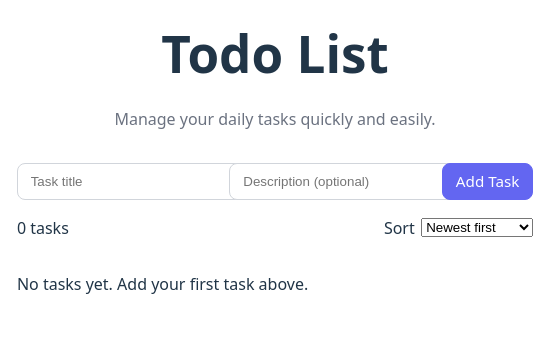
Test: M2: Edit Task - modify title and description
Note: Add initial task
In the field with placeholder "Task title": (133, 182) [17,163,249,200], type "Walk dog"
In the field with placeholder "Description (optional)": (346, 182) [230,163,462,200], type "Evening walk"
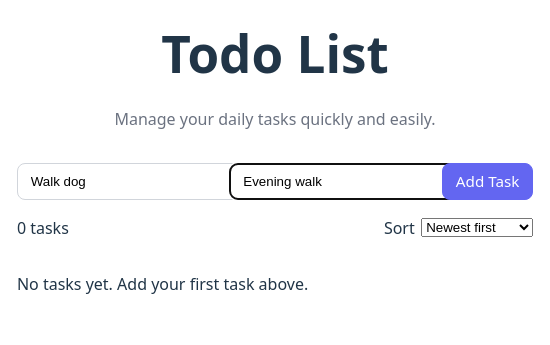
Click the button "Add Task": (488, 182) [442,163,533,200]
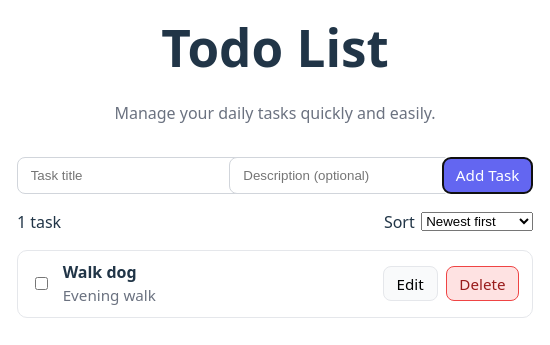
Click the button with aria-label "edit task": (410, 284) [383,266,438,301]
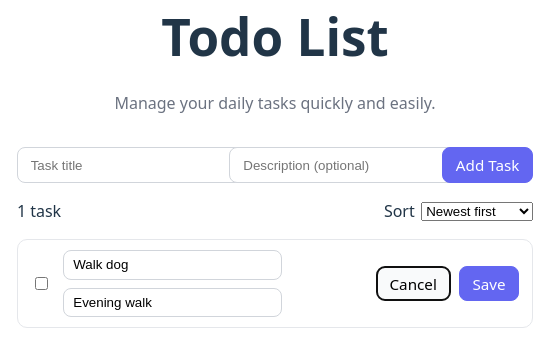
Replace the text in the field named "Edit title" with "Walk dog (park)": (172, 265) [63,250,282,280]
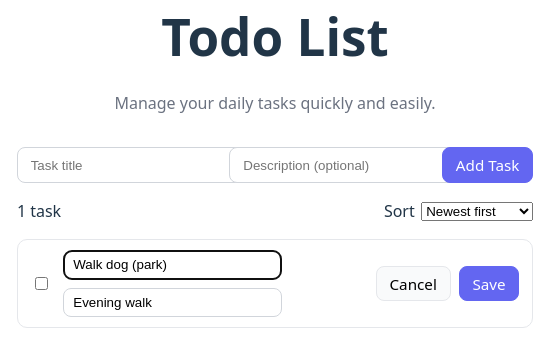
Replace the text in the field named "Edit description" with "Bring water": (172, 302) [63,288,282,317]
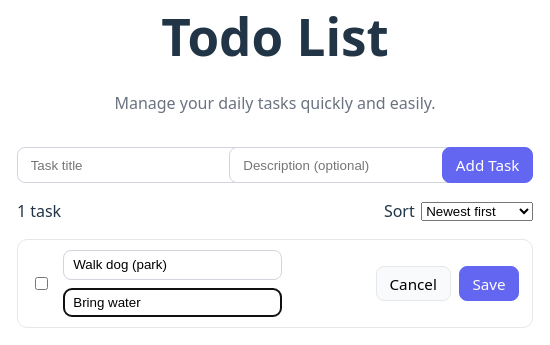
Click the button "Save": (489, 284) [459,266,519,301]
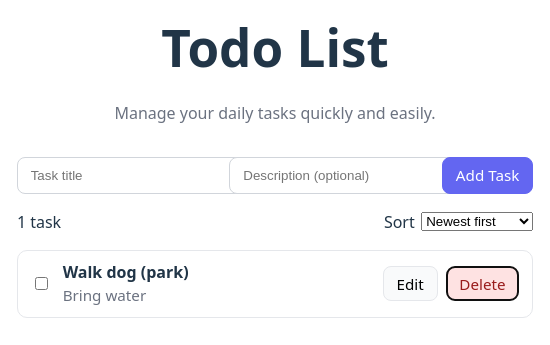
Check: the text "Walk dog (park)" is shown, box [63,260,189,284]
Check: the text "Bring water" is shown, box [63,285,146,305]
